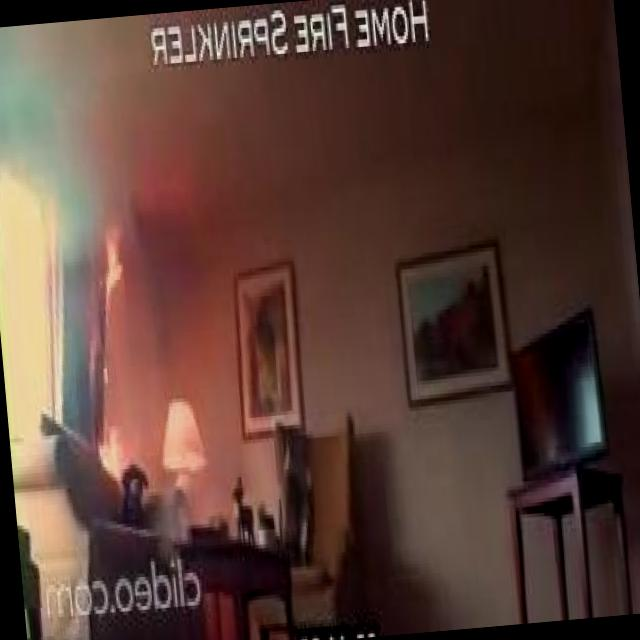fire: (57, 146, 188, 513)
